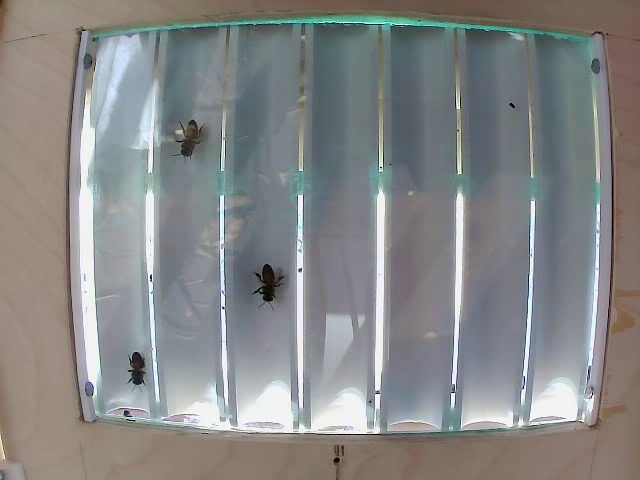bee: (181, 114, 226, 174), (259, 251, 303, 308), (121, 352, 149, 380)
